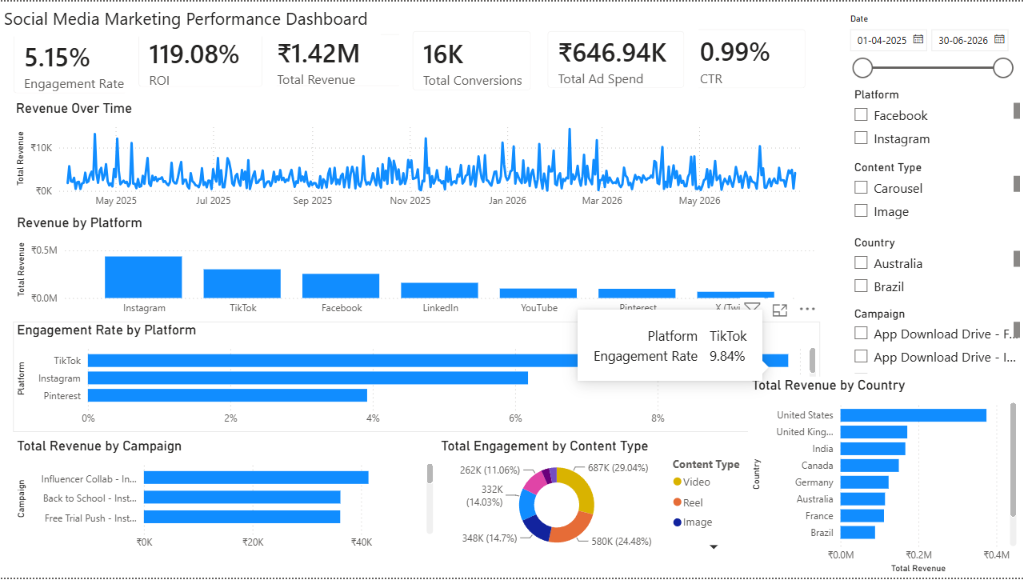

The page's visual inventory and layout, read from the dashboard file:
{"tool":"powerbi","page":{"name":"Page 1","canvas":[1280,720],"ordinal":0},"visuals":[{"type":"cardVisual","fields":{"Data":["Measures Table.Total Revenue"]},"box":[316.4,24.2,203.8,99.8],"z":0},{"type":"cardVisual","fields":{"Data":["Measures Table.Engagement Rate"]},"box":[0,23.3,192.1,108.4],"z":1000},{"type":"cardVisual","fields":{"Data":["Measures Table.CTR"]},"box":[845.3,17.1,179.6,108.3],"z":2000},{"type":"cardVisual","fields":{"Data":["Measures Table.ROI"]},"box":[156.5,23.2,189.5,100.3],"z":3000},{"type":"cardVisual","fields":{"Data":["Measures Table.Total Ad Spend"]},"box":[667.1,20,205.3,105.5],"z":4000},{"type":"lineChart","title":"Revenue Over Time","fields":{"Category":["Calendar.Date"],"Y":["Measures Table.Total Revenue"]},"box":[14.7,122.3,1010.1,144.3],"z":5000},{"type":"cardVisual","fields":{"Data":["Measures Table.Total Conversions"]},"box":[498.9,20,182.4,108.3],"z":6000},{"type":"textbox","box":[0,1.4,476.2,42.5],"z":7000},{"type":"clusteredColumnChart","title":"Revenue by Platform","fields":{"Category":["Campaign Data.Platform"],"Y":["Measures Table.Total Revenue"]},"box":[16.5,266.2,1008.6,134.5],"z":9000},{"type":"clusteredBarChart","title":"Engagement Rate by Platform","fields":{"Category":["Campaign Data.Platform"],"Y":["Measures Table.Engagement Rate"]},"box":[15.9,399.9,1008.8,139.4],"z":10000},{"type":"slicer","fields":{"Values":["Calendar.Date"]},"box":[1050.5,10,225.2,92.7],"z":11000},{"type":"slicer","fields":{"Values":["Campaign Data.Content Type"]},"box":[1054.8,193.9,225.2,92.7],"z":12000},{"type":"slicer","fields":{"Values":["Campaign Data.Country"]},"box":[1054.8,287.9,225.2,91.2],"z":13000},{"type":"slicer","fields":{"Values":["Campaign Data.Platform"]},"box":[1054.8,102.6,225.2,91.2],"z":14000},{"type":"slicer","fields":{"Values":["Campaign Data.Campaign"]},"box":[1054.8,376.3,225.2,92.7],"z":15000},{"type":"clusteredBarChart","fields":{"Category":["Campaign Data.Campaign"],"Y":["Measures Table.Total Revenue"]},"box":[15.7,544.5,530.2,149.7],"z":15001},{"type":"donutChart","fields":{"Category":["Campaign Data.Content Type"],"Y":["Measures Table.Total Engagement"]},"box":[545.9,544.5,400.5,149.7],"z":15002},{"type":"clusteredBarChart","fields":{"Category":["Campaign Data.Country"],"Y":["Measures Table.Total Revenue"]},"box":[935.1,469,340.7,250.9],"z":15003},{"type":"actionButton","box":[0,0,100,40],"z":15005}]}

Visuals, with their boxes in screenshot pixels (x1, y1, x2, y2), scaled from the page's 1280x720 canvas onto the 1023x581 screenshot:
cardVisual - Measures Table.Total Revenue: pyautogui.locateOnScreen(253, 20, 416, 100)
cardVisual - Measures Table.Engagement Rate: pyautogui.locateOnScreen(0, 19, 154, 106)
cardVisual - Measures Table.CTR: pyautogui.locateOnScreen(676, 14, 819, 101)
cardVisual - Measures Table.ROI: pyautogui.locateOnScreen(125, 19, 277, 100)
cardVisual - Measures Table.Total Ad Spend: pyautogui.locateOnScreen(533, 16, 697, 101)
"Revenue Over Time" lineChart: pyautogui.locateOnScreen(12, 99, 819, 215)
cardVisual - Measures Table.Total Conversions: pyautogui.locateOnScreen(399, 16, 545, 104)
textbox: pyautogui.locateOnScreen(0, 1, 381, 35)
"Revenue by Platform" clusteredColumnChart: pyautogui.locateOnScreen(13, 215, 819, 323)
"Engagement Rate by Platform" clusteredBarChart: pyautogui.locateOnScreen(13, 323, 819, 435)
slicer - Calendar.Date: pyautogui.locateOnScreen(840, 8, 1020, 83)
slicer - Campaign Data.Content Type: pyautogui.locateOnScreen(843, 156, 1022, 231)
slicer - Campaign Data.Country: pyautogui.locateOnScreen(843, 232, 1022, 306)
slicer - Campaign Data.Platform: pyautogui.locateOnScreen(843, 83, 1022, 156)
slicer - Campaign Data.Campaign: pyautogui.locateOnScreen(843, 304, 1022, 378)
clusteredBarChart - Campaign Data.Campaign x Measures Table.Total Revenue: pyautogui.locateOnScreen(13, 439, 436, 560)
donutChart - Campaign Data.Content Type x Measures Table.Total Engagement: pyautogui.locateOnScreen(436, 439, 756, 560)
clusteredBarChart - Campaign Data.Country x Measures Table.Total Revenue: pyautogui.locateOnScreen(747, 378, 1020, 580)
actionButton: pyautogui.locateOnScreen(0, 0, 80, 32)
